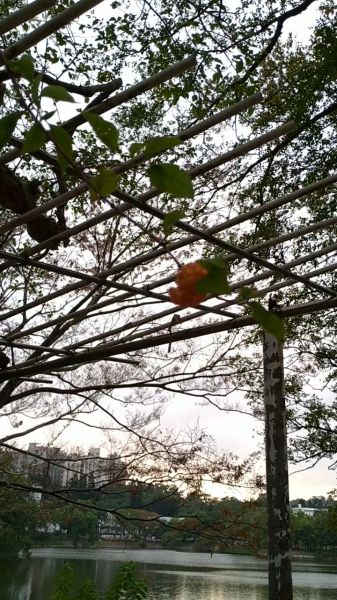eggs: (156, 259, 214, 314)
